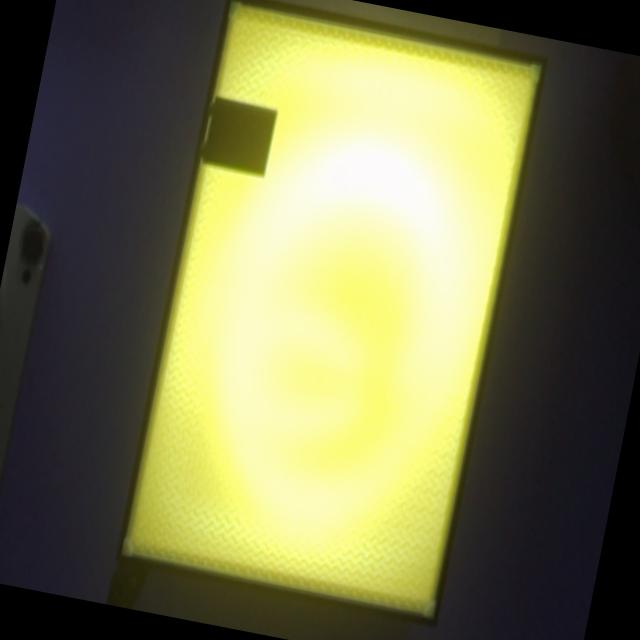bateria: (199, 96, 278, 178)
mesa: (115, 0, 547, 628)
